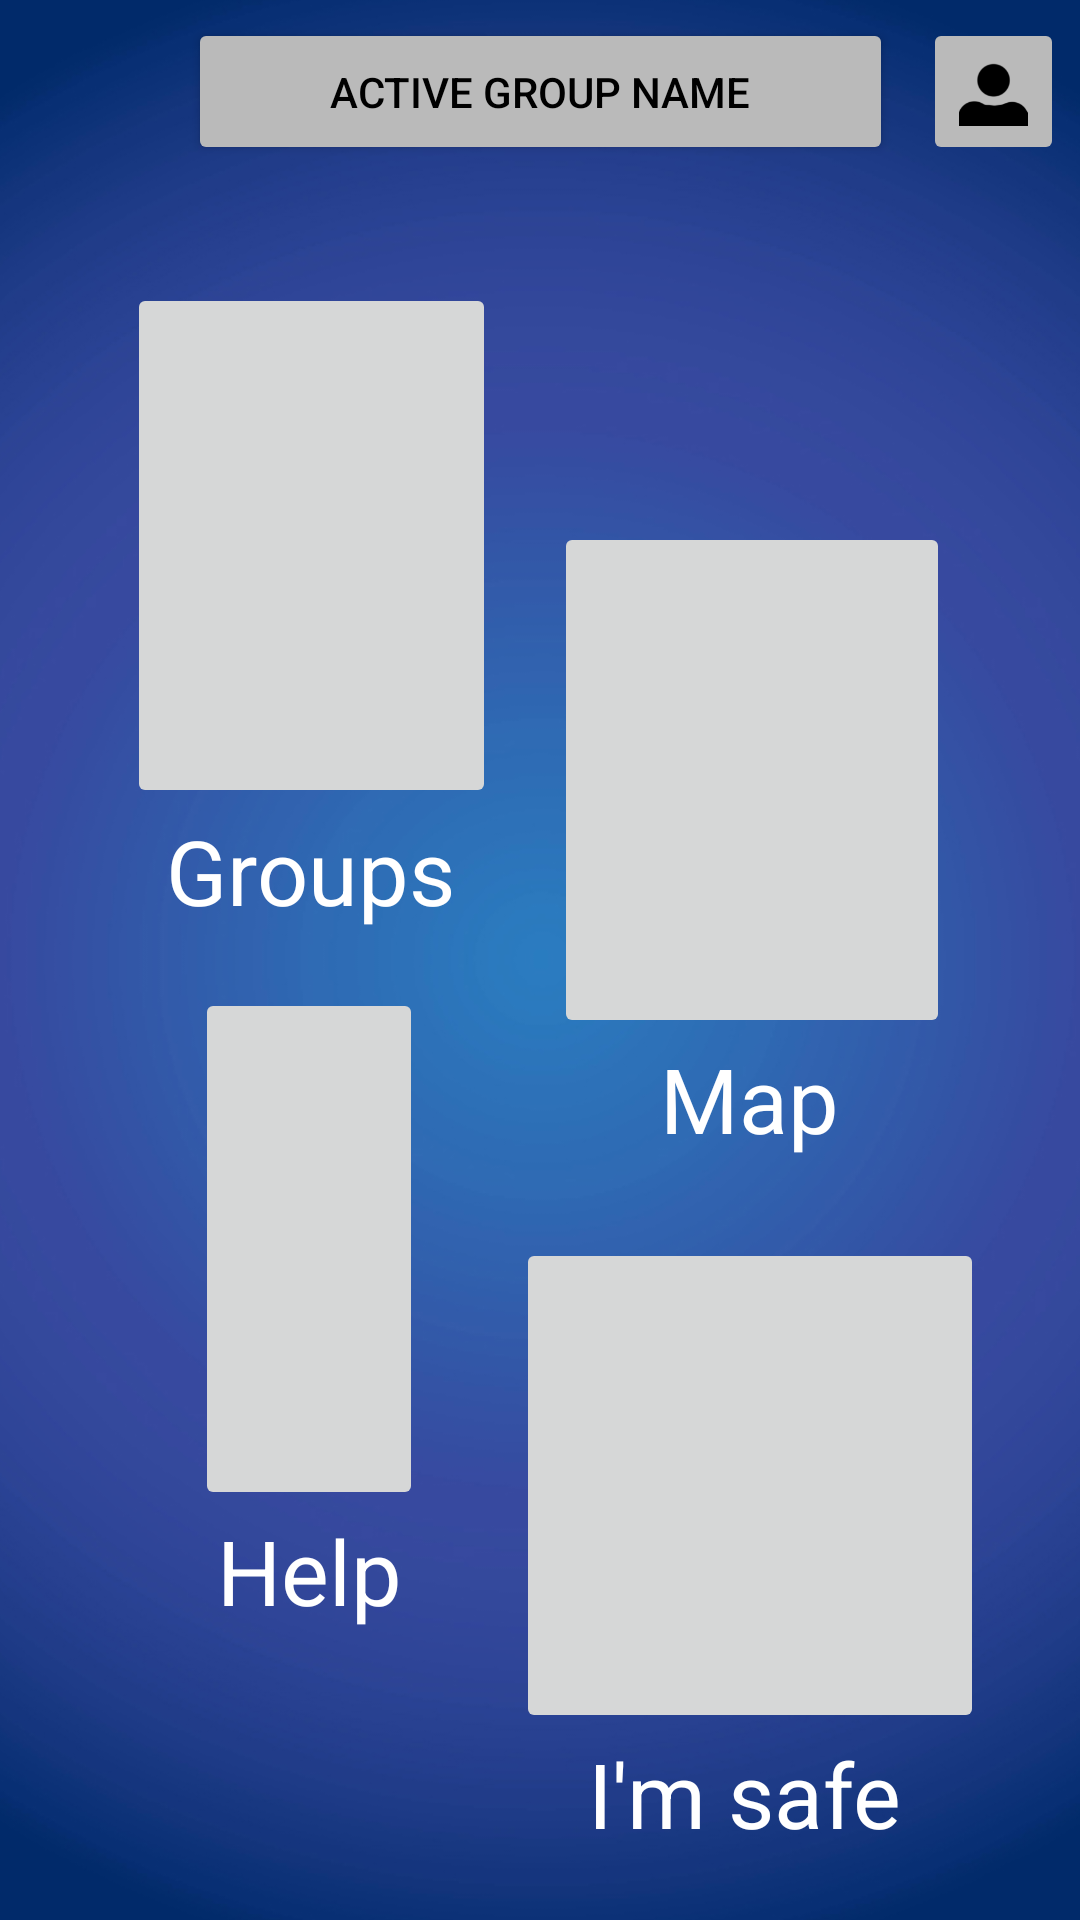

Locate icon controls on the screen. Image size 1080px×1920px, boxes as {"x1": x1, "y1": y1, "x2": x2, "y2": y2}.
profileicon: {"x1": 935, "y1": 36, "x2": 1052, "y2": 147}
